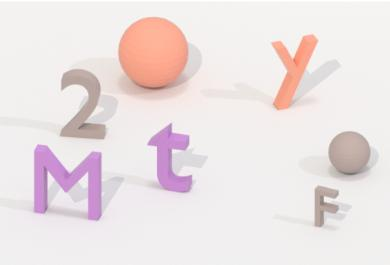0-Tron: (112, 14, 193, 95), (324, 127, 374, 179)
2: (57, 65, 109, 141)
F: (310, 181, 342, 233)
M: (28, 140, 110, 225)
t: (143, 119, 199, 196)
y: (264, 31, 322, 118)
